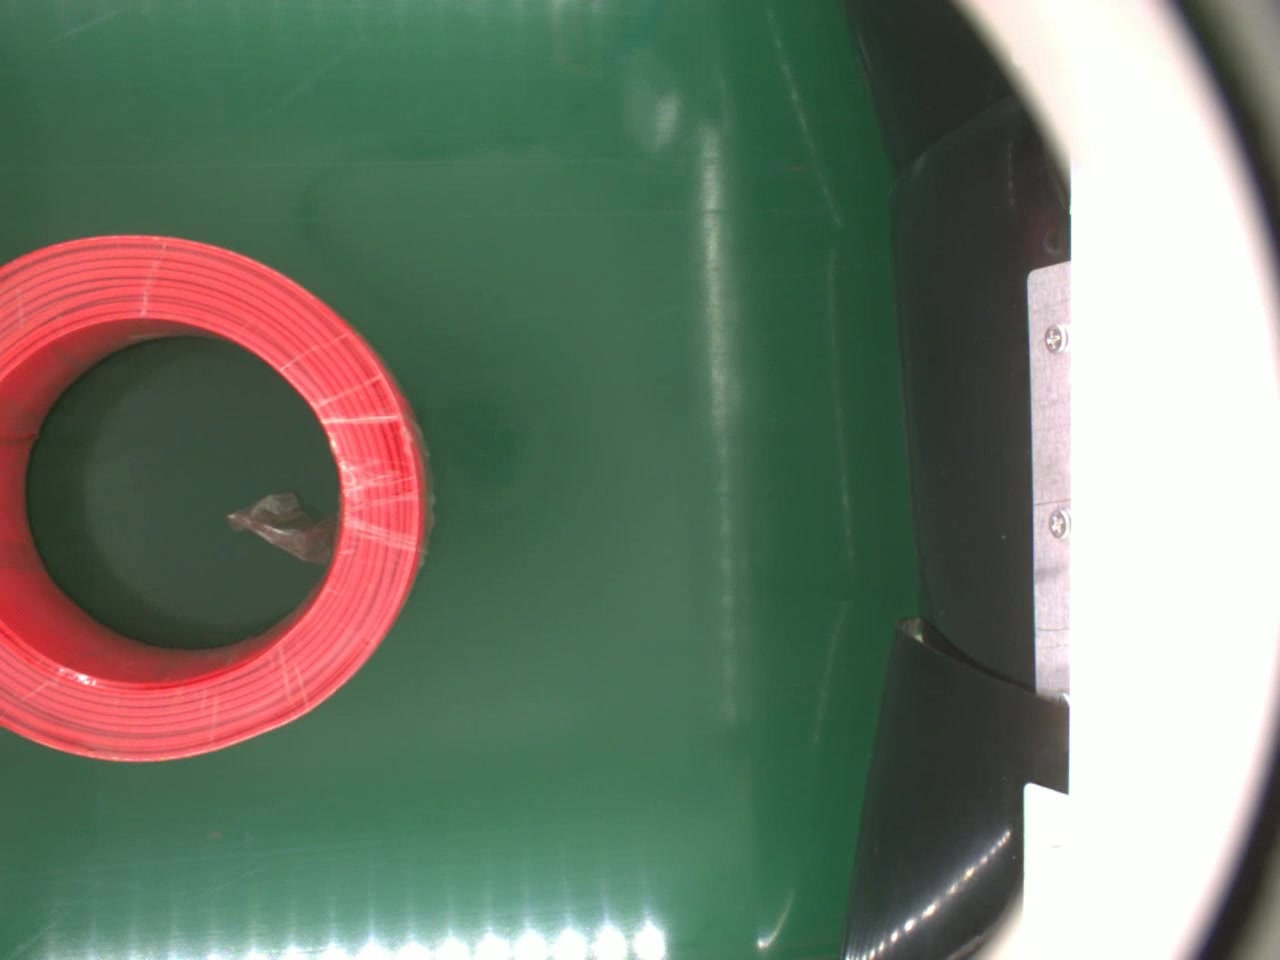red: (0, 232, 429, 767)
